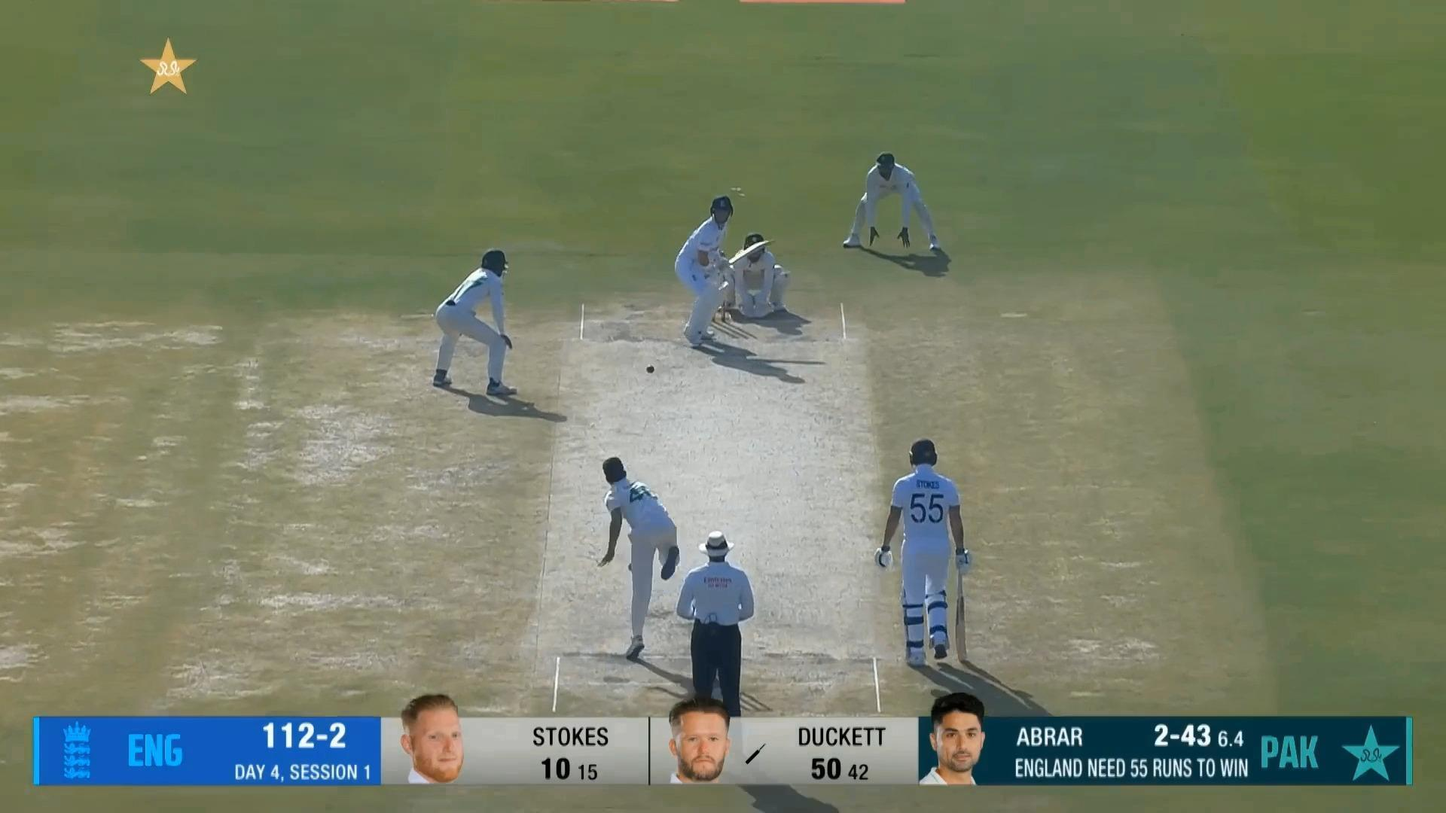BM 1: (675, 195, 776, 348)
BO: (596, 456, 680, 659)
